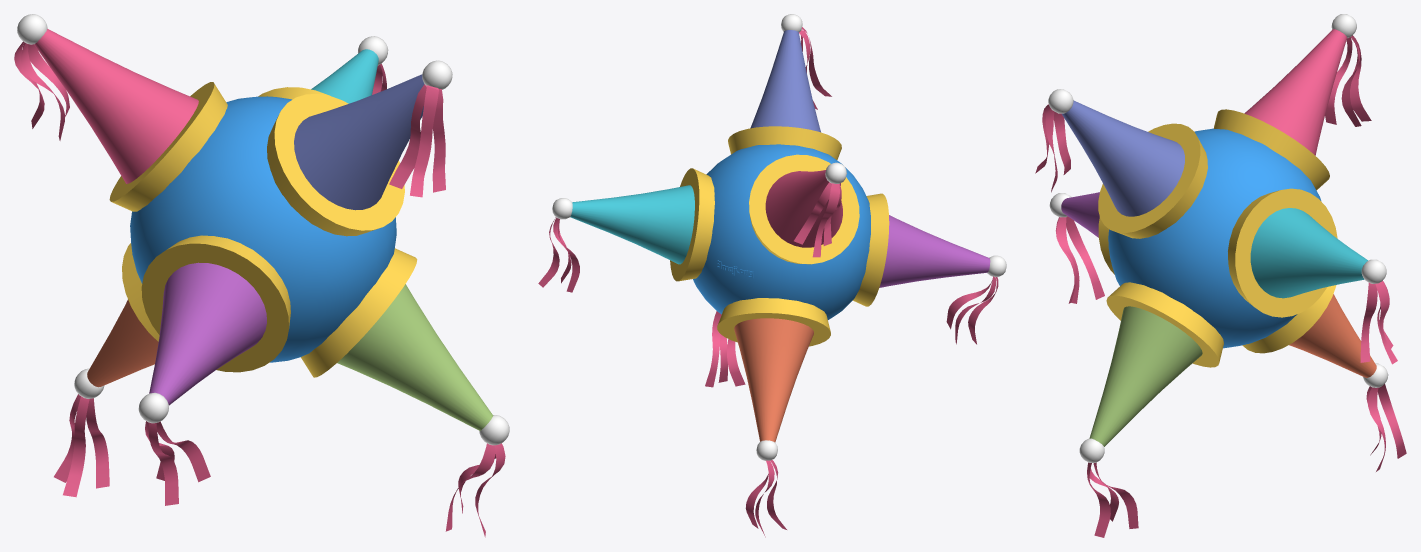
File: pinata.fbx
3 views of the same model, side by side, from view 1: azimuth 30°, elevation 25°; view 2: azimuth 150°, elevation 25°; view 3: azimuth 270°, elevation 25° (orthographic). The views are drawn at different scales.
Visible parts, largest first — view 1: Cube.849; view 2: Cube.849; view 3: Cube.849.
Part boxes in pixels (bbox=[...]): Cube.849: bbox=[14, 14, 509, 537]; Cube.849: bbox=[538, 14, 1006, 537]; Cube.849: bbox=[1035, 14, 1406, 537].
Bounding box in the file's own units: 197 × 226 × 173.
Materials: 1 (1 with a texture image).
